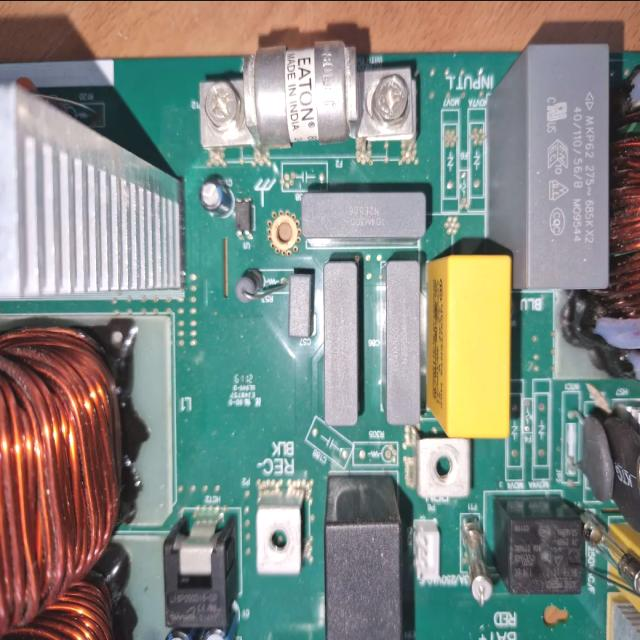A: (0, 313, 138, 640), (608, 41, 640, 389)
B: (202, 38, 422, 150)
G: (1, 92, 181, 302)
